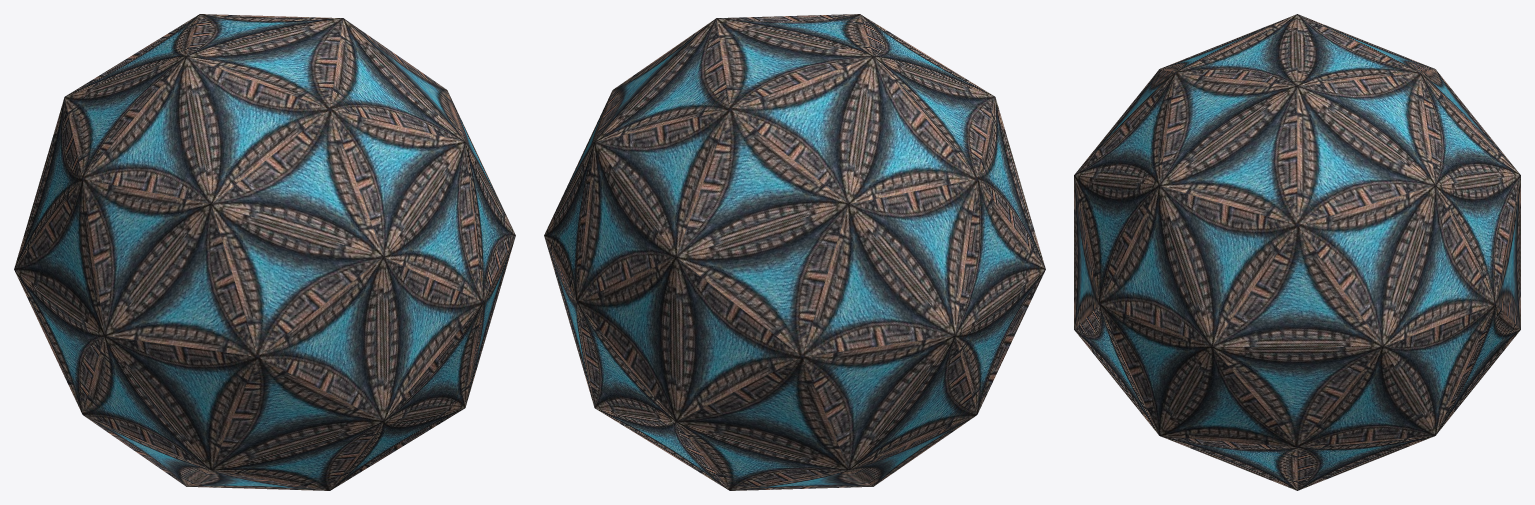
The model's file is PentakisDodecahedron2.obj.
The picture shows the model from 3 angles, left to right: view 1: azimuth 30°, elevation 25°; view 2: azimuth 150°, elevation 25°; view 3: azimuth 270°, elevation 25°; orthographic projection. The views are drawn at different scales.
Bounding box in the file's own units: 4.85 × 4.85 × 4.85.
Materials: 1 (1 with a texture image).
